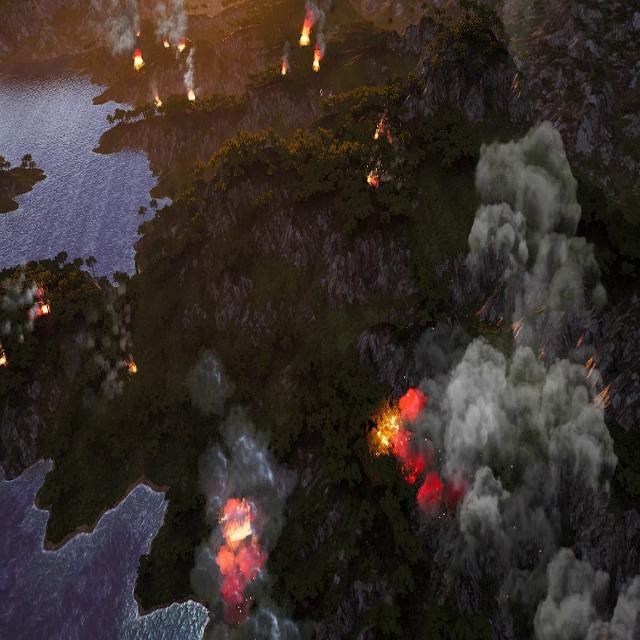fire: (214, 496, 262, 602), (371, 388, 422, 462), (374, 118, 392, 146), (300, 19, 312, 50), (133, 49, 145, 71), (312, 48, 321, 71), (366, 171, 377, 187), (188, 89, 196, 106), (0, 354, 9, 369), (156, 93, 163, 109), (281, 62, 288, 76), (131, 364, 139, 376), (180, 42, 186, 54), (44, 306, 51, 314), (165, 41, 171, 49)
smoke: (409, 117, 624, 640), (181, 353, 309, 640), (0, 261, 43, 341), (102, 0, 144, 57), (153, 0, 190, 47), (306, 0, 330, 59), (181, 45, 201, 91), (283, 40, 294, 67)
